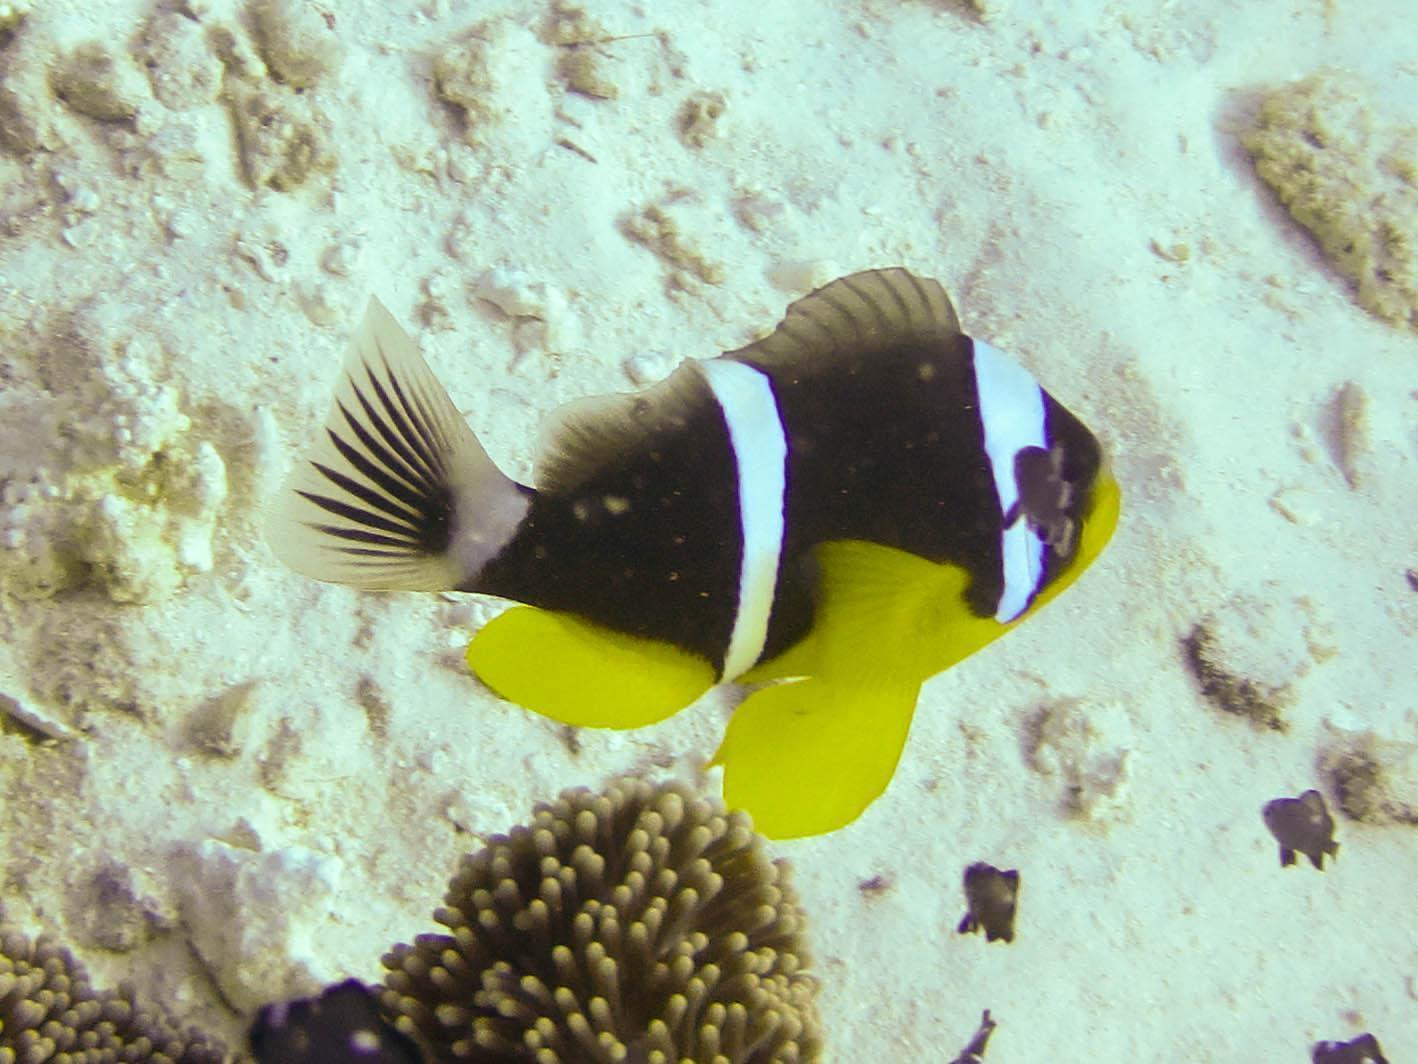Fish: (250, 247, 1148, 847)
